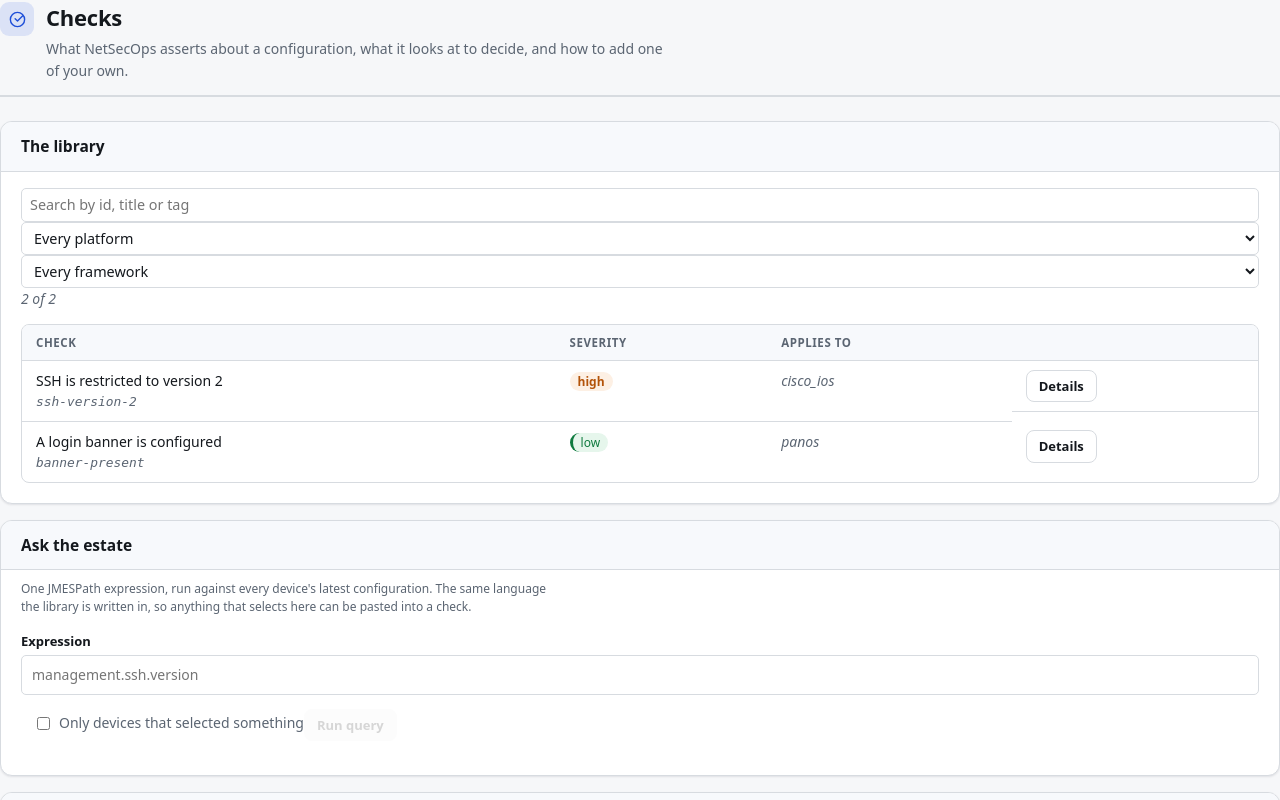
it: ChecksPage › the library › shows what a check actually looks at
Expected: the text "SSH is restricted to version 2" is shown, [36,371,223,390]
Step 1. Click the button "Details" in the row of "SSH is restricted to version 2" → point(1061, 386), box [1026,370,1097,402]
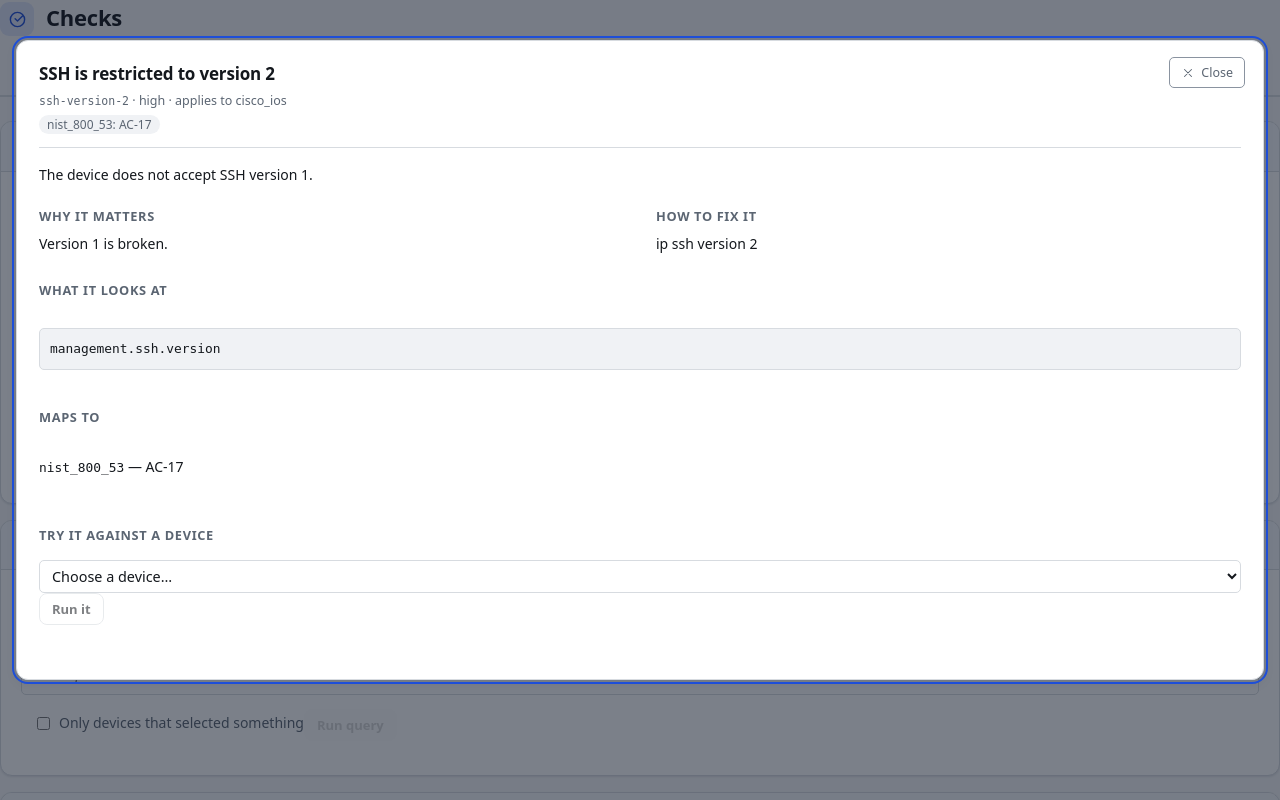
Expected: the text "management.ssh.version" is shown, [39,328,1241,370]
Expected: the list item reads "nist_800_53 — AC-17", [39,457,184,476]
